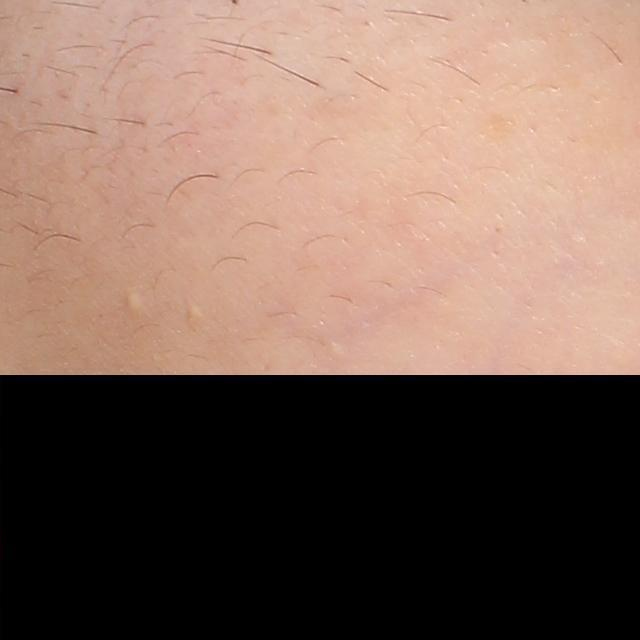other: (124, 293, 144, 313)
